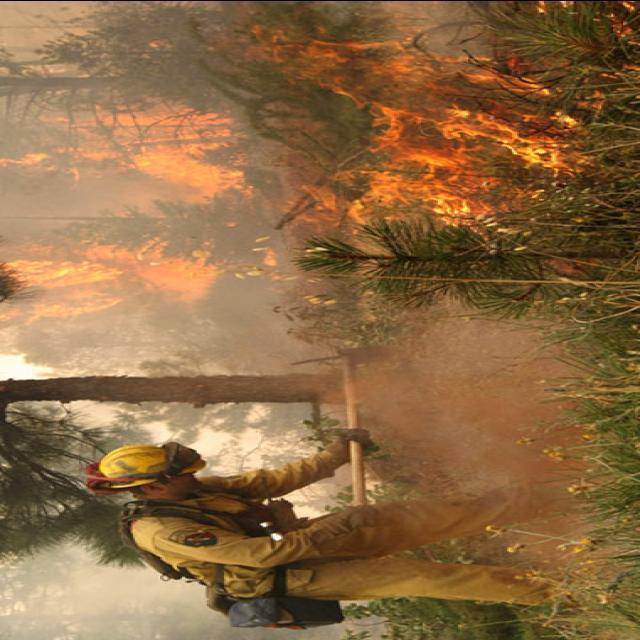Fire: (19, 27, 569, 315)
